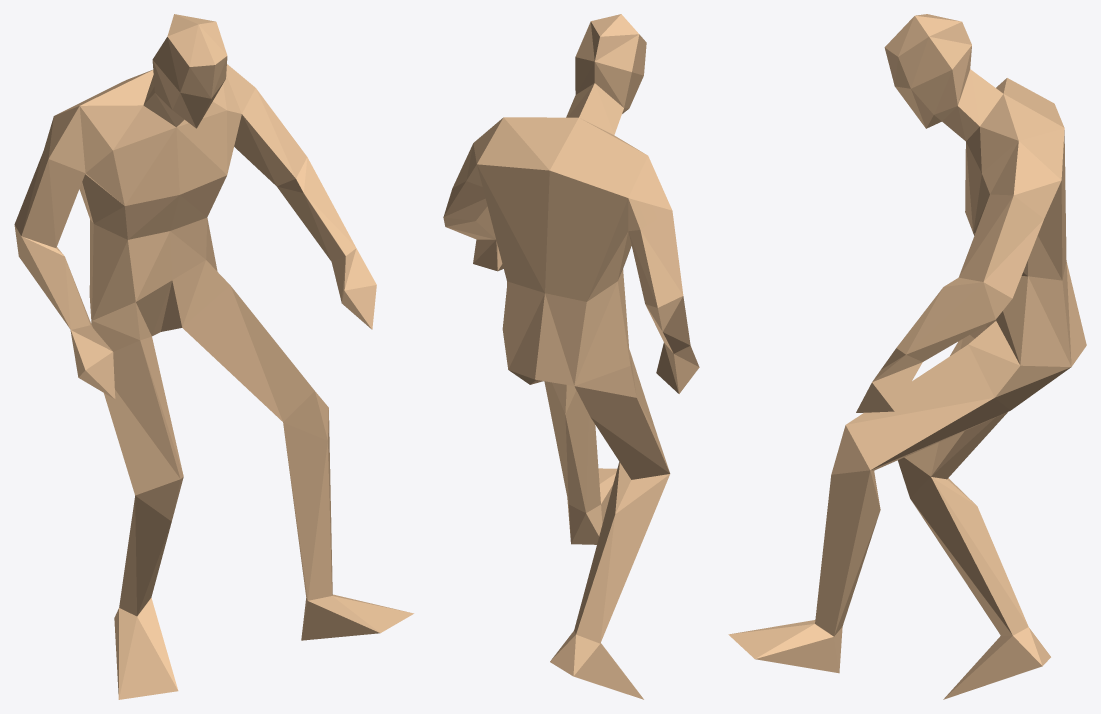
The picture shows the model from 3 angles, left to right: view 1: azimuth 30°, elevation 25°; view 2: azimuth 150°, elevation 25°; view 3: azimuth 270°, elevation 25°; orthographic projection. The views are drawn at different scales.
Size of the model in its own units: 0.9127 by 2.08 by 0.9743.
